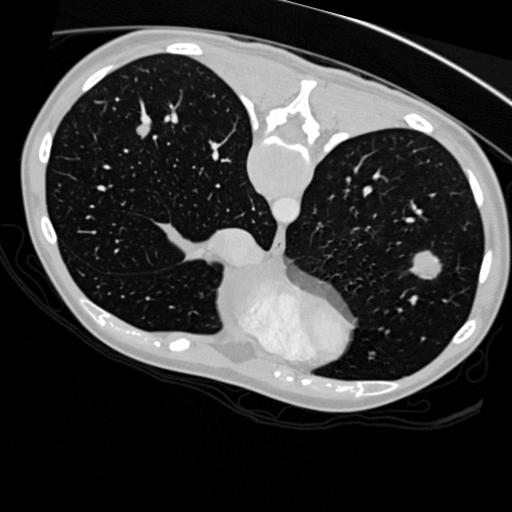nodule: (131, 120, 152, 141)
